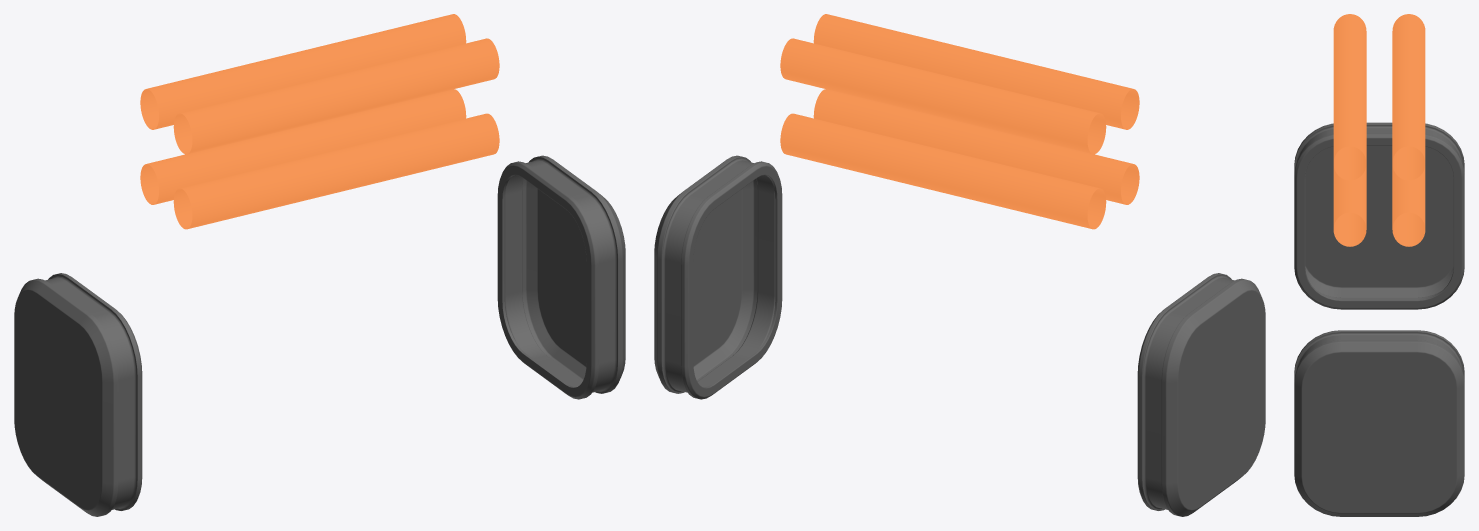
3 renders of one model, left to right at view 1: azimuth 30°, elevation 25°; view 2: azimuth 150°, elevation 25°; view 3: azimuth 270°, elevation 25°, orthographic. The views are drawn at different scales.
Parts seen in each view (by area): view 1: Slice_18, Object_64; view 2: Slice_18, Object_64; view 3: Slice_18, Object_64.
Part boxes in pixels (x1=…): Slice_18: x1=14, y1=155, x2=625, y2=516; Object_64: x1=140, y1=14, x2=499, y2=229; Slice_18: x1=654, y1=155, x2=1265, y2=516; Object_64: x1=780, y1=14, x2=1139, y2=229; Slice_18: x1=1294, y1=122, x2=1464, y2=516; Object_64: x1=1333, y1=14, x2=1425, y2=246.
Size of the model in its own units: 1.31 by 0.8835 by 0.4175.
